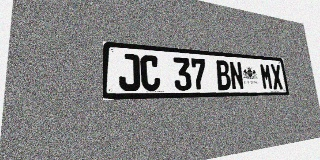3: (173, 57, 192, 91)
7: (190, 58, 208, 90)
B: (215, 60, 232, 90)
C: (140, 55, 161, 91)
J: (118, 53, 140, 91)
M: (259, 63, 273, 90)
N: (229, 61, 244, 90)
X: (270, 64, 283, 90)
